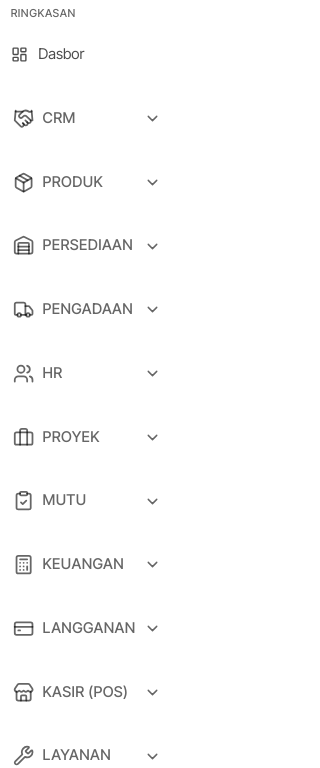
Test: OrgNav module gating › shows every permitted section when the modules request fails
What coordinates should you click on to do the following:
click the button "CRM"
I would click on:
 (59, 118)
Its box is [13,108,161,129].
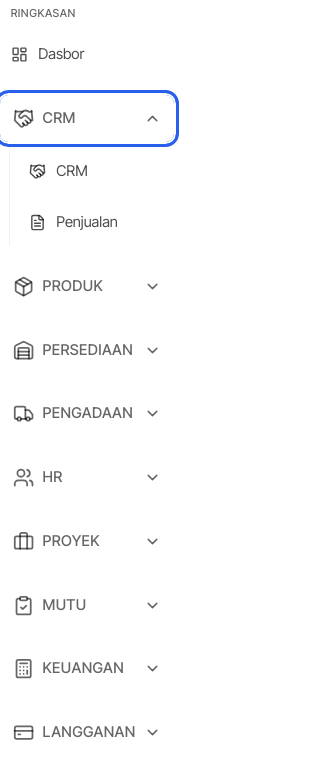
expect the link "Penjualan" is shown: met, box [29,213,118,231]
What coordinates should you click on to do the following:
click the button "HR"
I would click on:
 (23, 478)
Its box is [13,467,161,488].
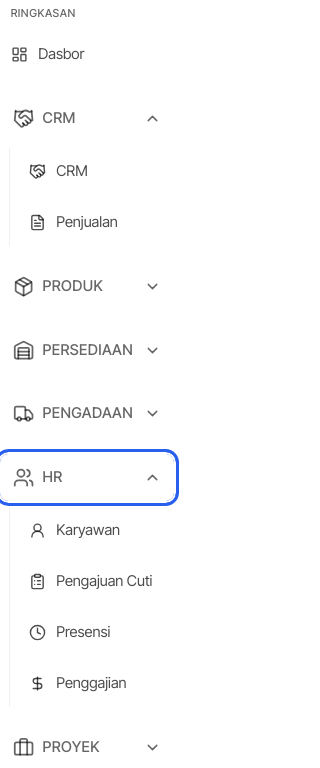
expect the link "Karyawan" is shown: met, box [29,521,120,539]
